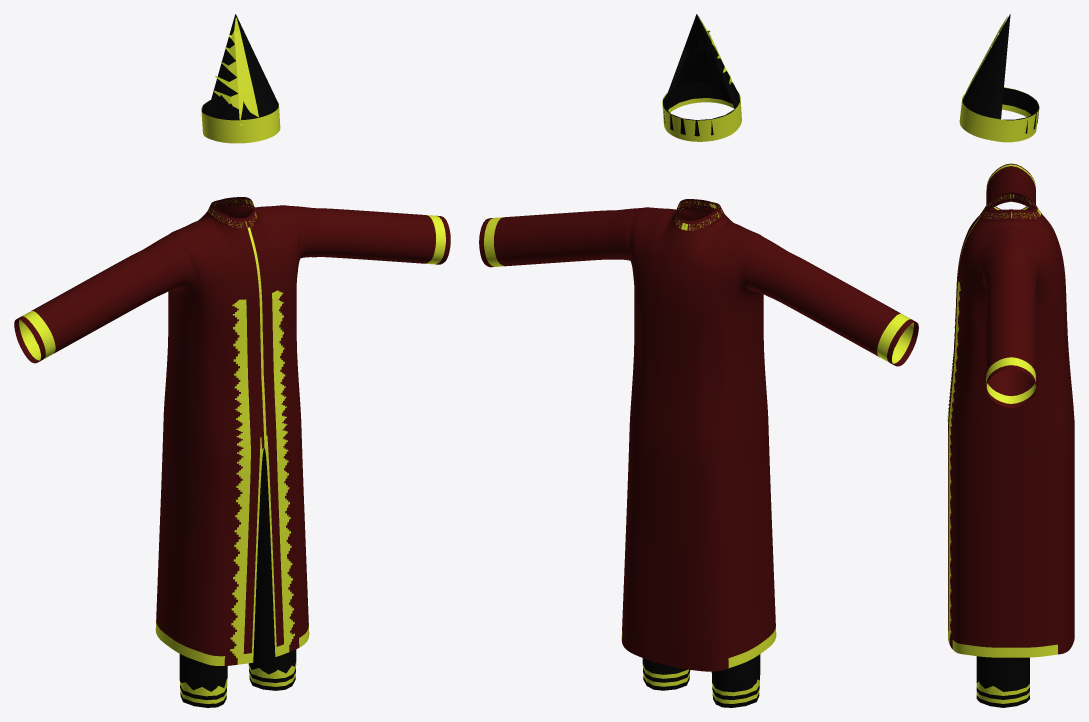
Rendered from Nias.FBX.
3 views of the same model, side by side, from view 1: azimuth 30°, elevation 25°; view 2: azimuth 150°, elevation 25°; view 3: azimuth 270°, elevation 25° (orthographic).
Visible parts, largest first — view 1: Nias, Plane023, Line025, Shape013, Plane024, Shape012; view 2: Nias, Line025, Plane023, Shape013; view 3: Nias, Line025, Plane023, Shape013.
Part boxes in pixels (box(x1,y1,x2,y2)): Nias: box(14, 197, 450, 665); Plane023: box(179, 448, 296, 707); Line025: box(202, 14, 278, 120); Shape013: box(201, 101, 280, 143); Plane024: box(214, 17, 258, 125); Shape012: box(245, 227, 266, 448); Nias: box(479, 199, 918, 671); Line025: box(663, 14, 739, 136); Plane023: box(642, 654, 760, 707); Shape013: box(662, 91, 741, 141); Nias: box(948, 163, 1074, 657); Line025: box(962, 14, 1039, 133); Plane023: box(976, 656, 1029, 707); Shape013: box(959, 87, 1038, 142).
Size of the model in its own units: 127 by 193 by 33.28.
